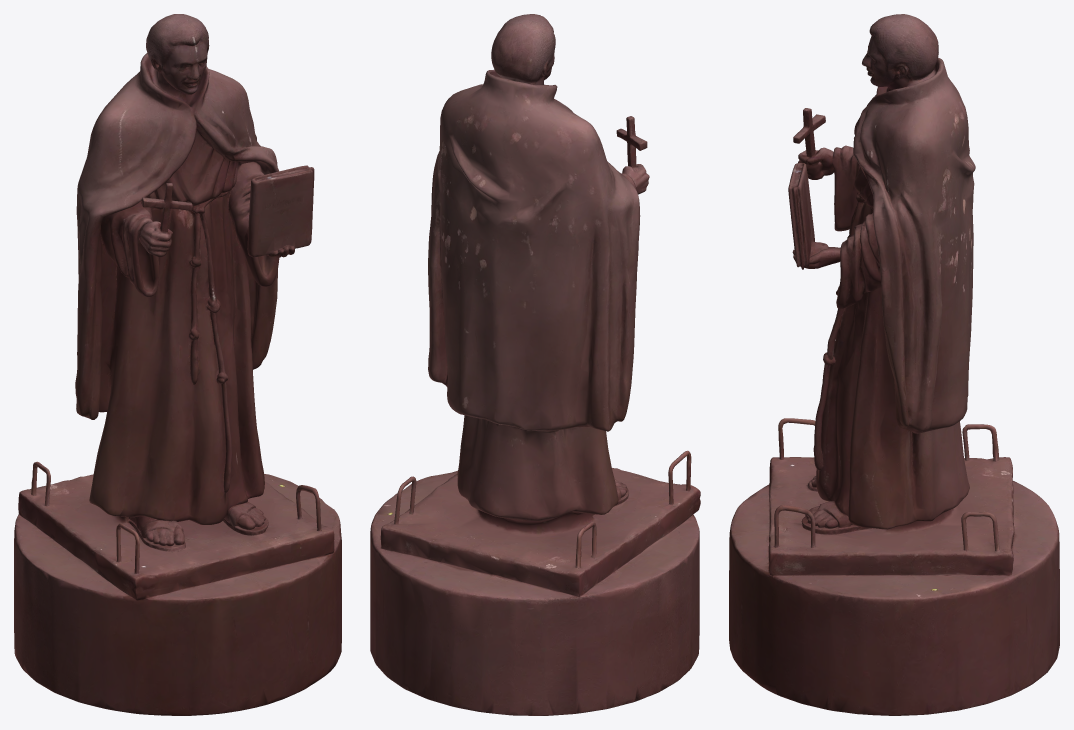
File: obra-07-fray-juan-bernardo.glb
3 views of the same model, side by side, from view 1: azimuth 30°, elevation 25°; view 2: azimuth 150°, elevation 25°; view 3: azimuth 270°, elevation 25° (orthographic).
Bounding box in the file's own units: 0.9518 × 2 × 0.9502.
1 material, 1 textured.
